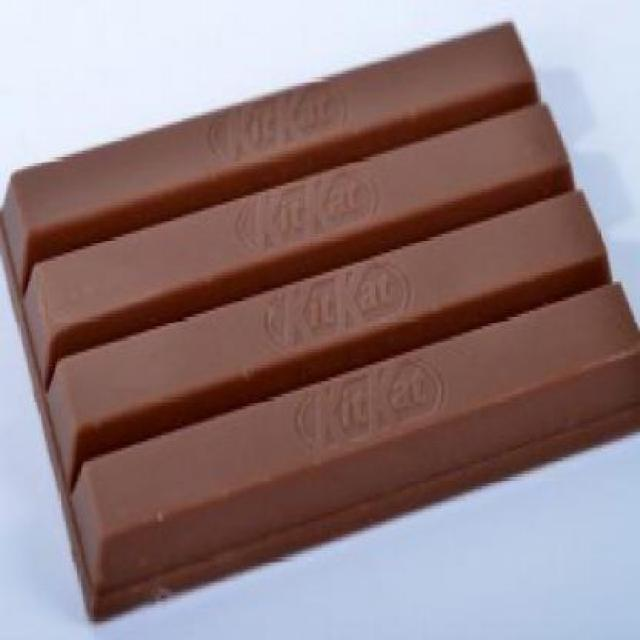Chocolate bar packaged: (4, 19, 638, 624)
